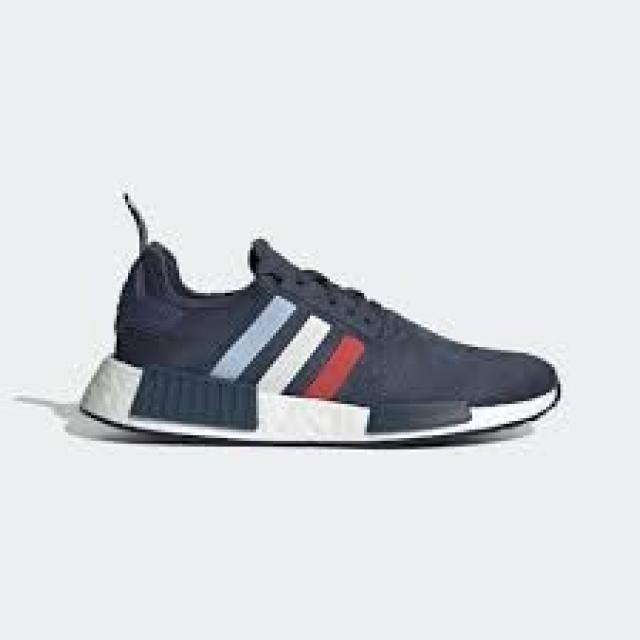shoe: (72, 188, 564, 450)
